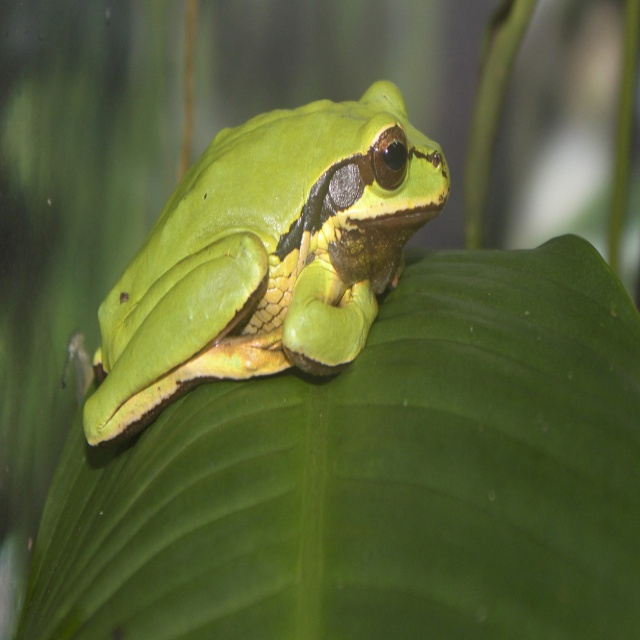Frog: (61, 76, 448, 452)
